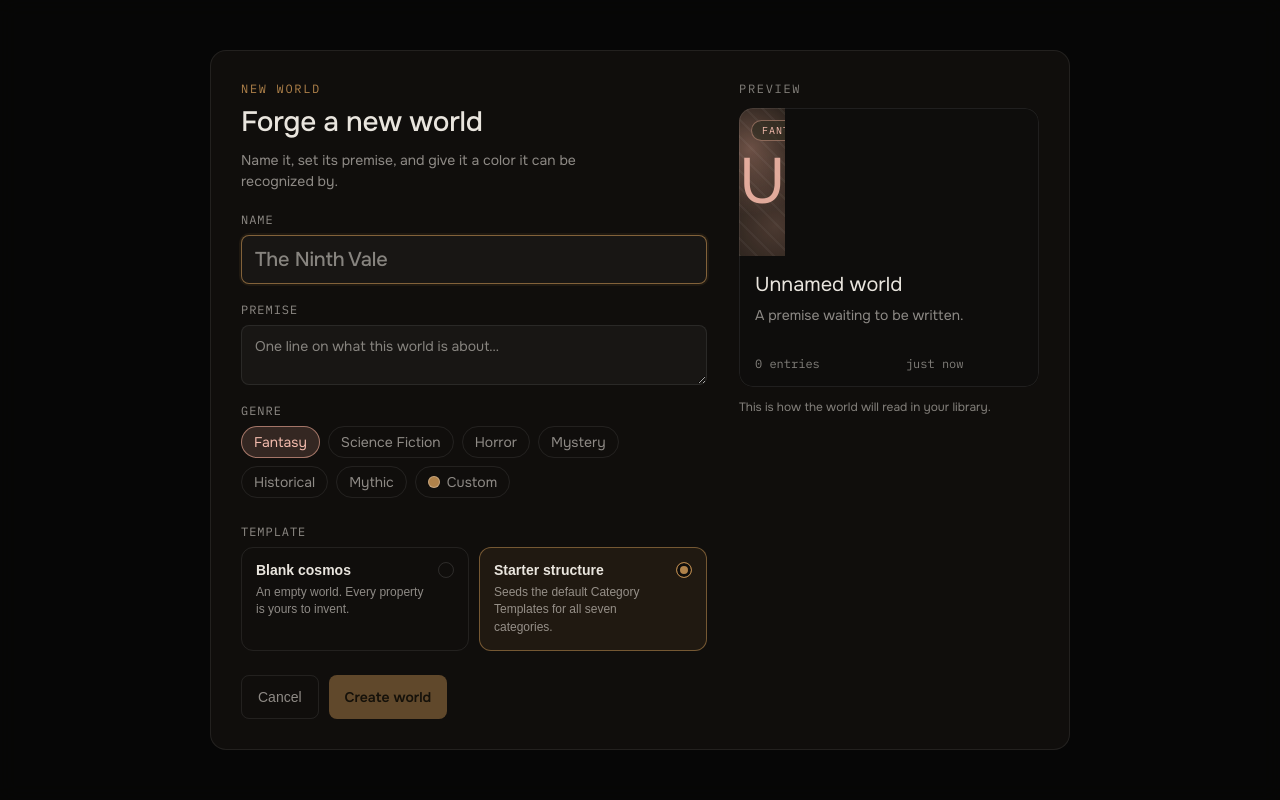
Test: CreateWorldModal › disables Create until the world is named
Expected: the button "Create world" is disabled, [329,675,447,719]
Type "Named" into the field labelled "Name". click: (474, 259)
box: [241,235,707,284]
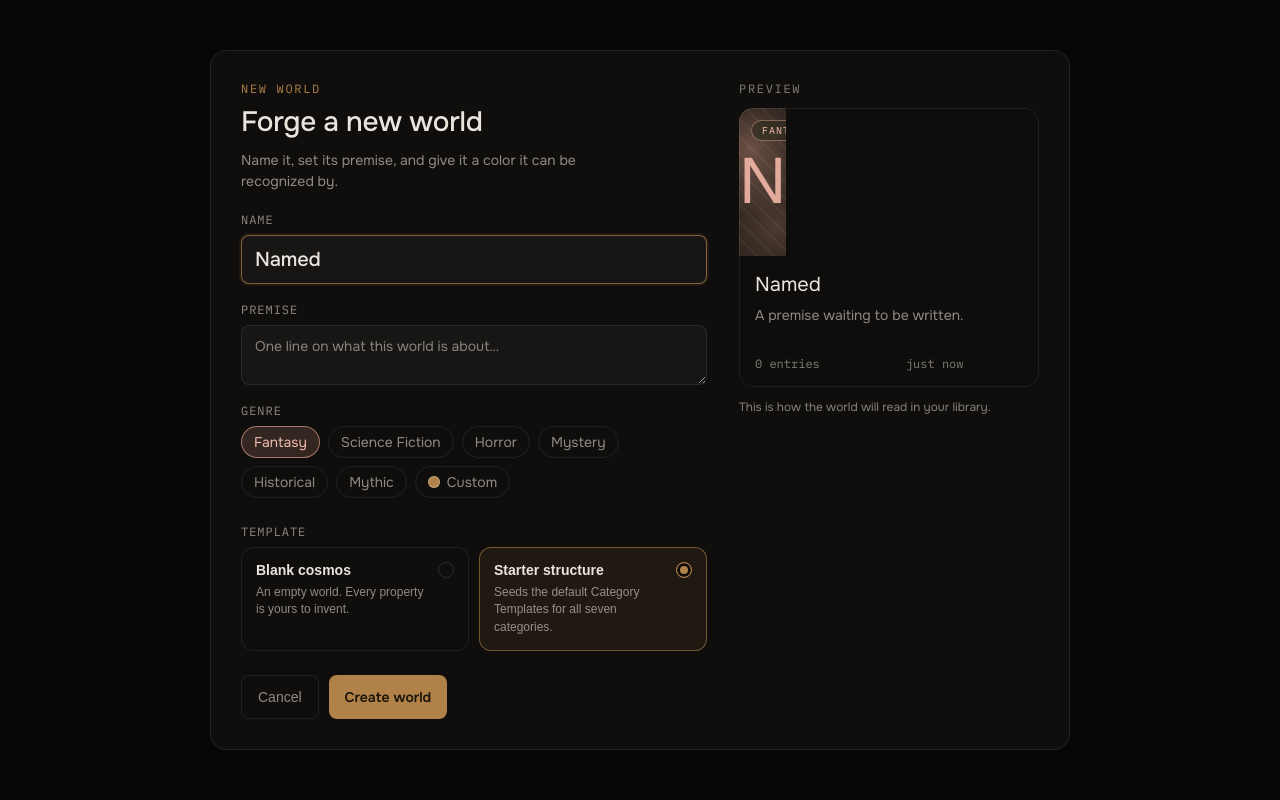
Expected: the button "Create world" is enabled, [329,675,447,719]
